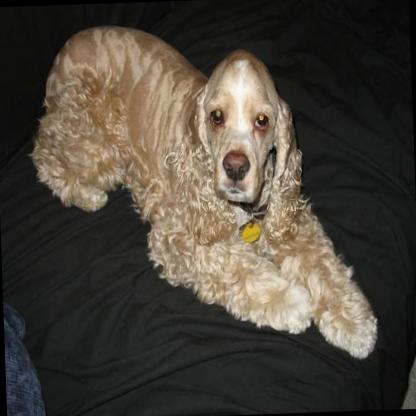cocker_spaniel: (24, 16, 380, 371)
